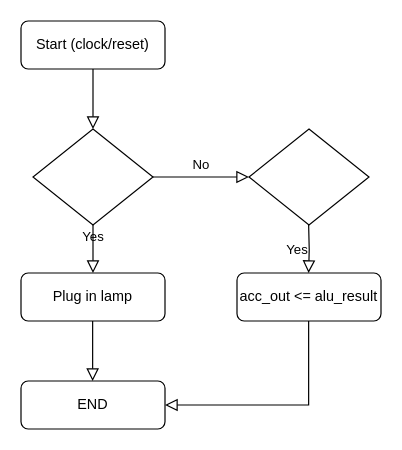
This 402x450 diagram has some shape labels left out. The centre of each missing label's shape, as x and y in pixels:
"en_acc_in == 1" goes at point 308,176.
"reset == 1" goes at point 92,176.
